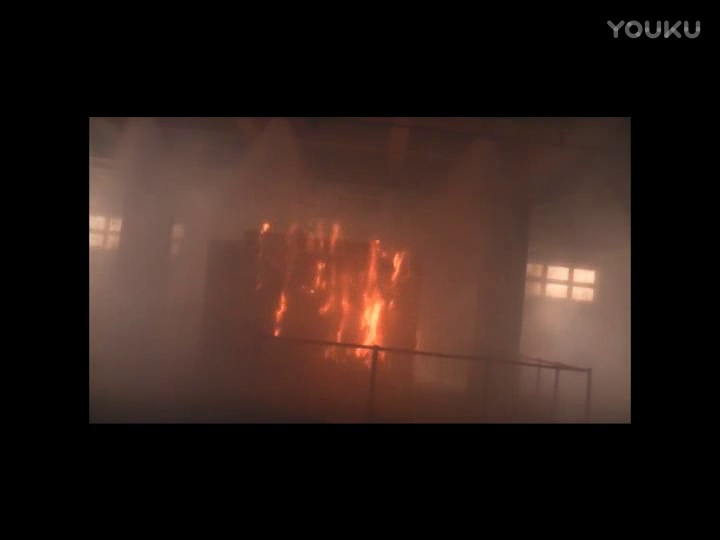fire: (357, 288, 387, 357)
